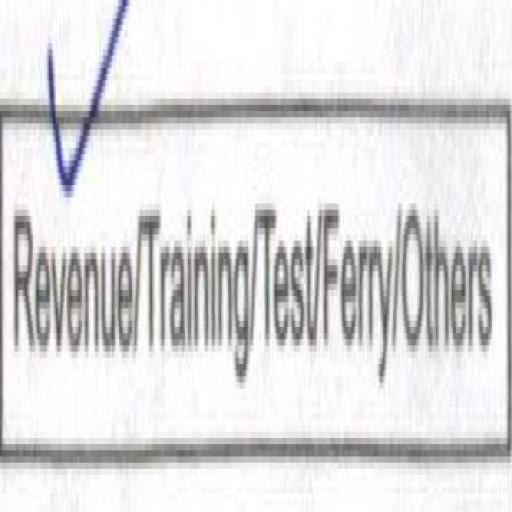check: (0, 25, 134, 461)
